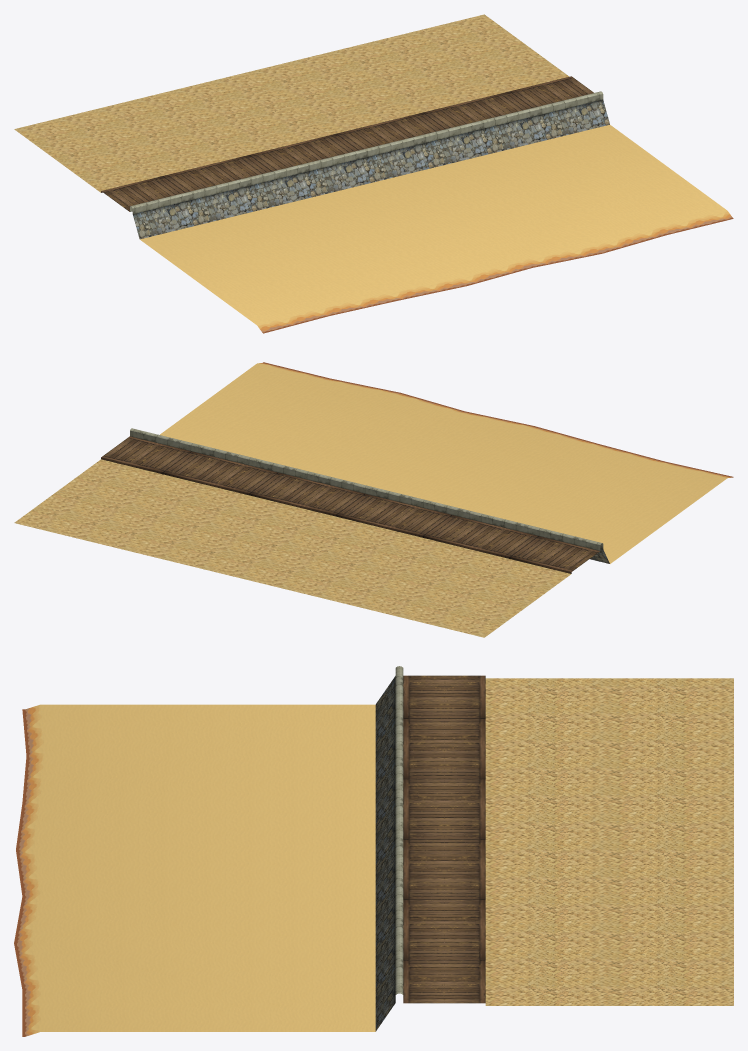
The model's file is Dock_1x2.FBX.
3 renders of one model, top to bottom at view 1: azimuth 30°, elevation 25°; view 2: azimuth 150°, elevation 25°; view 3: azimuth 270°, elevation 25°, orthographic. The views are drawn at different scales.
Parts seen in each view (by area): view 1: Dock_1x2; view 2: Dock_1x2; view 3: Dock_1x2.
Boxes of the visible parts, x1,y1,x2,y2 form: Dock_1x2: (14, 14, 733, 333); Dock_1x2: (14, 362, 733, 637); Dock_1x2: (14, 666, 733, 1036).
Size of the model in its own units: 57.76 by 53.67 by 3.57.
